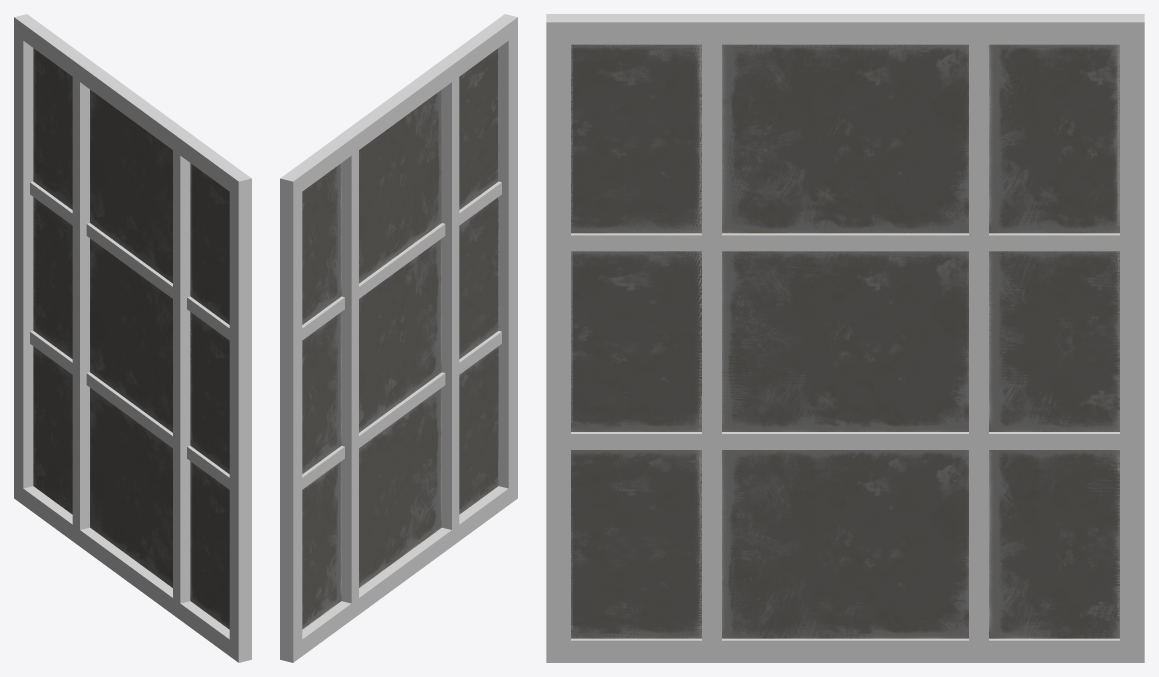
File: ClassWindow.fbx
3 renders of one model, left to right at view 1: azimuth 30°, elevation 25°; view 2: azimuth 150°, elevation 25°; view 3: azimuth 270°, elevation 25°, orthographic. The views are drawn at different scales.
Parts seen in each view (by area): view 1: ClassWindow; view 2: ClassWindow; view 3: ClassWindow.
Boxes of the visible parts, box(x1,y1,x2,y2) form: ClassWindow: box(14, 14, 251, 662); ClassWindow: box(280, 14, 517, 662); ClassWindow: box(546, 14, 1144, 662).
Bounding box in the file's own units: 5.12 × 180 × 153.
